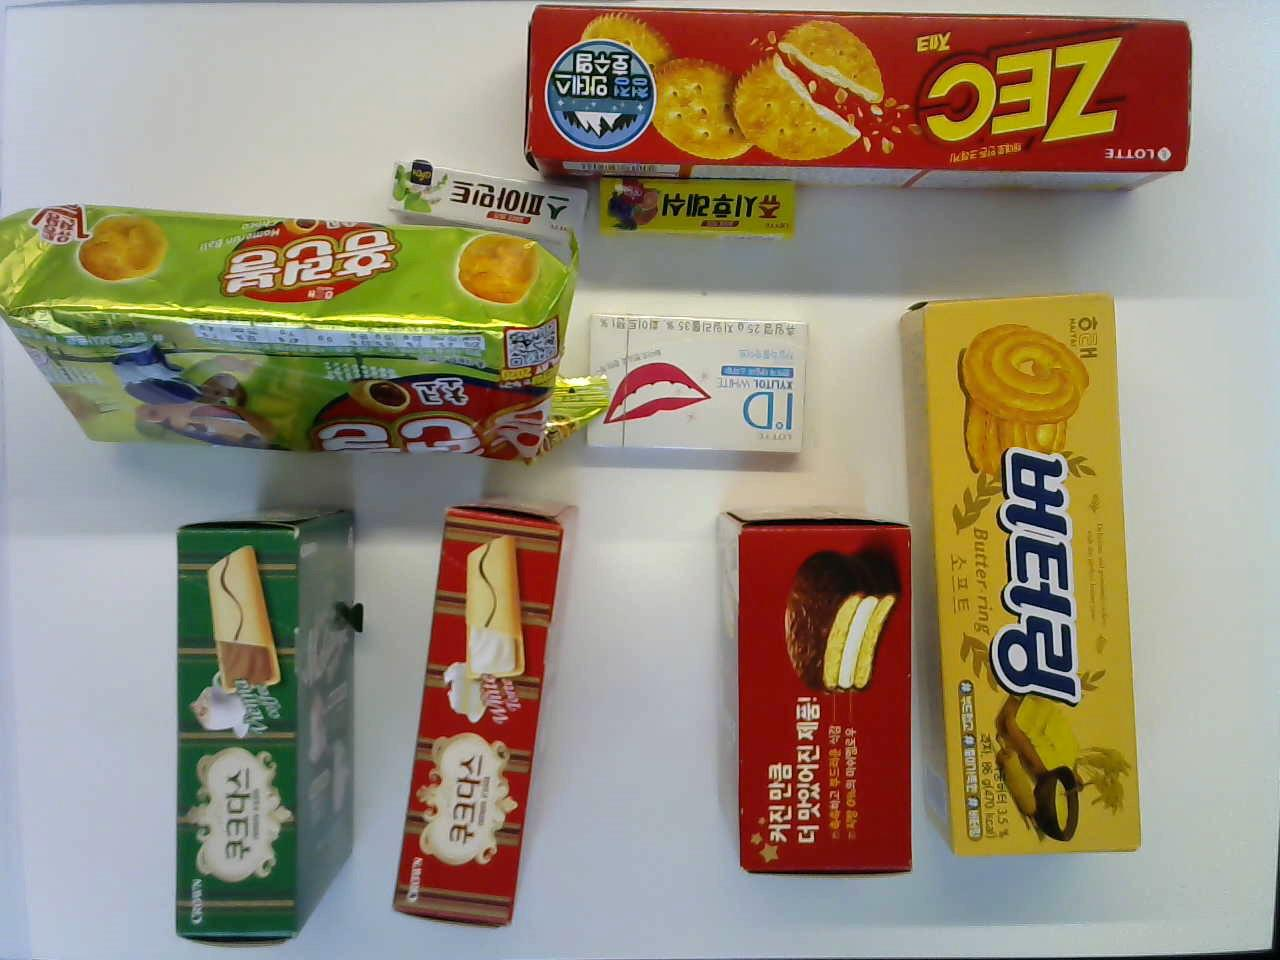ID_gum: (583, 309, 811, 454)
buttering: (894, 291, 1141, 867)
chocopie: (711, 499, 922, 884)
couque_coffee: (167, 499, 357, 946)
couque_white: (389, 490, 583, 919)
homerunball: (27, 214, 555, 462)
juicyfresh: (595, 181, 796, 238)
spearmint: (385, 158, 591, 247)
zec: (525, 4, 1188, 188)
